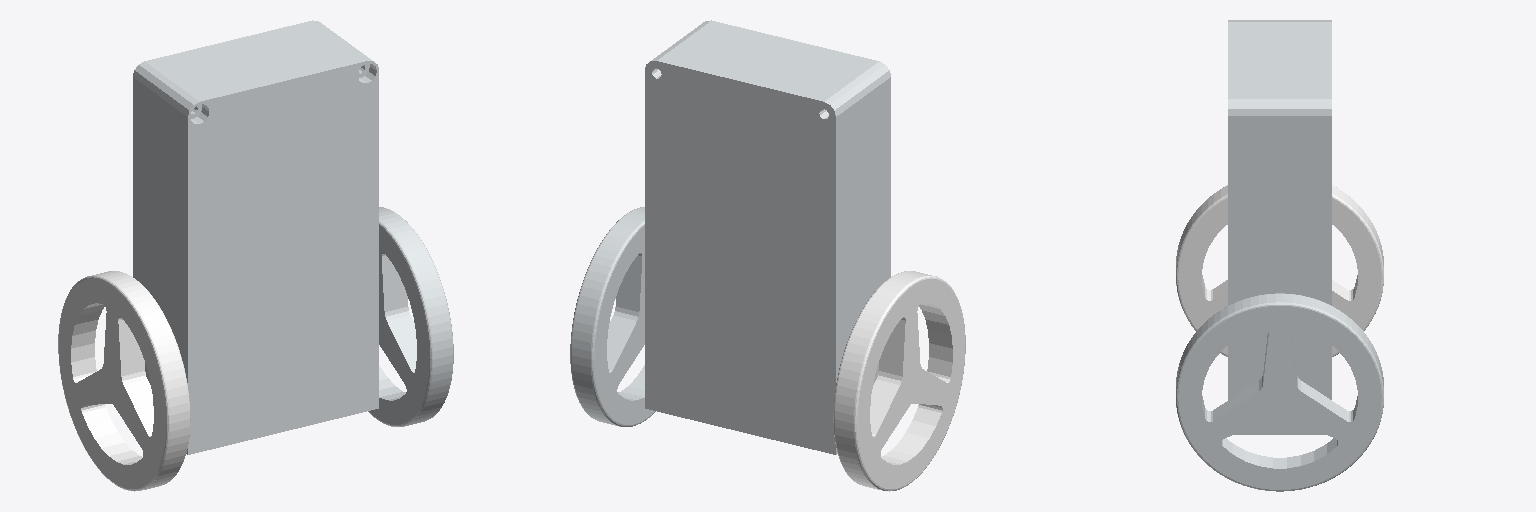
robot.urdf — Segway_Asy_R2:
<?xml version="1.0" encoding="utf-8"?>
<!-- This URDF was automatically created by SolidWorks to URDF Exporter! Originally created by [author] ([email redacted]) 
     Commit Version: 1.6.0-4-g7f85cfe  Build Version: 1.6.7995.38578
     For more information, please see http://wiki.ros.org/sw_urdf_exporter -->
<robot
  name="Segway_Asy_R2">
  <link
    name="base_link">
    <inertial>
      <origin
        xyz="1.1895E-17 0.070156 -7.9452E-05"
        rpy="0 0 0" />
      <mass
        value="0.28447" />
      <inertia
        ixx="0.00039919"
        ixy="5.2218E-19"
        ixz="-5.1984E-20"
        iyy="0.00022072"
        iyz="1.815E-07"
        izz="0.00058388" />
    </inertial>
    <visual>
      <origin
        xyz="0 0 0"
        rpy="0 0 0" />
      <geometry>
        <mesh
          filename="package://Segway_Asy_R2/meshes/base_link.STL" />
      </geometry>
      <material
        name="">
        <color
          rgba="0.89804 0.91765 0.92941 1" />
      </material>
    </visual>
    <collision>
      <origin
        xyz="0 0 0"
        rpy="0 0 0" />
      <geometry>
        <mesh
          filename="package://Segway_Asy_R2/meshes/base_link.STL" />
      </geometry>
    </collision>
  </link>
  <link
    name="wheel_1">
    <inertial>
      <origin
        xyz="1.3878E-17 6.9389E-18 1.1714E-17"
        rpy="0 0 0" />
      <mass
        value="0.0839" />
      <inertia
        ixx="8.1089E-05"
        ixy="2.7272E-22"
        ixz="-1.6873E-21"
        iyy="4.124E-05"
        iyz="-1.4945E-20"
        izz="4.124E-05" />
    </inertial>
    <visual>
      <origin
        xyz="0 0 0"
        rpy="0 0 0" />
      <geometry>
        <mesh
          filename="package://Segway_Asy_R2/meshes/wheel_1.STL" />
      </geometry>
      <material
        name="">
        <color
          rgba="0.89804 0.91765 0.92941 1" />
      </material>
    </visual>
    <collision>
      <origin
        xyz="0 0 0"
        rpy="0 0 0" />
      <geometry>
        <mesh
          filename="package://Segway_Asy_R2/meshes/wheel_1.STL" />
      </geometry>
    </collision>
  </link>
  <joint
    name="axle_1"
    type="fixed">
    <origin
      xyz="0.055 0 0.04"
      rpy="1.5708 0 0" />
    <parent
      link="base_link" />
    <child
      link="wheel_1" />
    <axis
      xyz="0 0 0" />
  </joint>
  <link
    name="wheel_2">
    <inertial>
      <origin
        xyz="0 0 0"
        rpy="0 0 0" />
      <mass
        value="0" />
      <inertia
        ixx="0"
        ixy="0"
        ixz="0"
        iyy="0"
        iyz="0"
        izz="0" />
    </inertial>
    <visual>
      <origin
        xyz="0 0 0"
        rpy="0 0 0" />
      <geometry>
        <mesh
          filename="package://Segway_Asy_R2/meshes/wheel_2.STL" />
      </geometry>
      <material
        name="">
        <color
          rgba="1 1 1 1" />
      </material>
    </visual>
    <collision>
      <origin
        xyz="0 0 0"
        rpy="0 0 0" />
      <geometry>
        <mesh
          filename="package://Segway_Asy_R2/meshes/wheel_2.STL" />
      </geometry>
    </collision>
  </link>
  <joint
    name="axle_2"
    type="fixed">
    <origin
      xyz="-0.055 0 0.04"
      rpy="1.5708 0 3.1416" />
    <parent
      link="base_link" />
    <child
      link="wheel_2" />
    <axis
      xyz="0 0 0" />
  </joint>
</robot>

--- Render facts (derived) ---
Views: 3 orthographic renders of the robot side by side, from view 1: azimuth 30°, elevation 25°; view 2: azimuth 150°, elevation 25°; view 3: azimuth 270°, elevation 25°.
Robot: Segway_Asy_R2 — 3 links, 2 joints (2 fixed); root link base_link; default pose: all joints at 0.
Links seen in each view (by area): view 1: base_link, wheel_2, wheel_1; view 2: base_link, wheel_2, wheel_1; view 3: base_link, wheel_1, wheel_2.
Boxes of the visible links, x1,y1,x2,y2 form: base_link: (133, 20, 378, 454); wheel_2: (58, 271, 190, 491); wheel_1: (368, 207, 453, 426); base_link: (645, 20, 890, 454); wheel_2: (833, 271, 965, 491); wheel_1: (570, 207, 655, 426); base_link: (1228, 20, 1331, 434); wheel_1: (1176, 293, 1383, 491); wheel_2: (1176, 185, 1383, 356).
Bounding box of the posed robot: 0.12 × 0.08 × 0.155 m (x, y, z).
Meshes: 3 distinct files referenced, 3 mesh visuals loaded (3 binary STL).